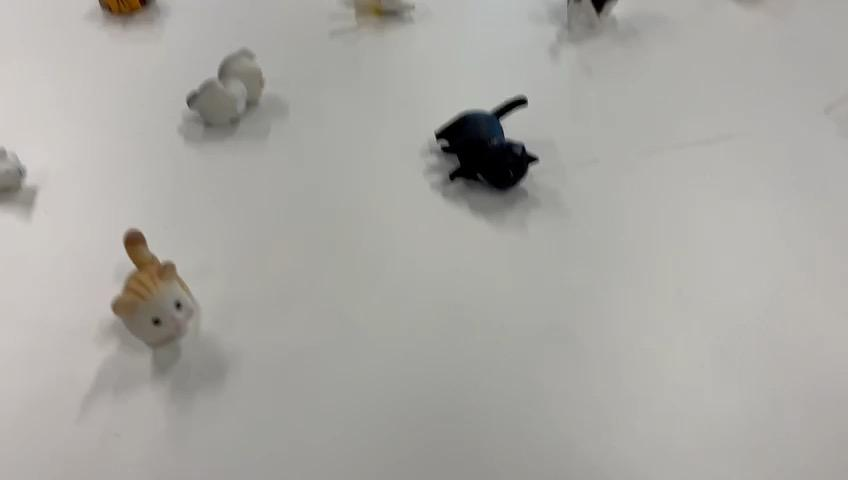pet: (104, 223, 204, 375), (426, 91, 544, 193), (183, 42, 269, 136)
